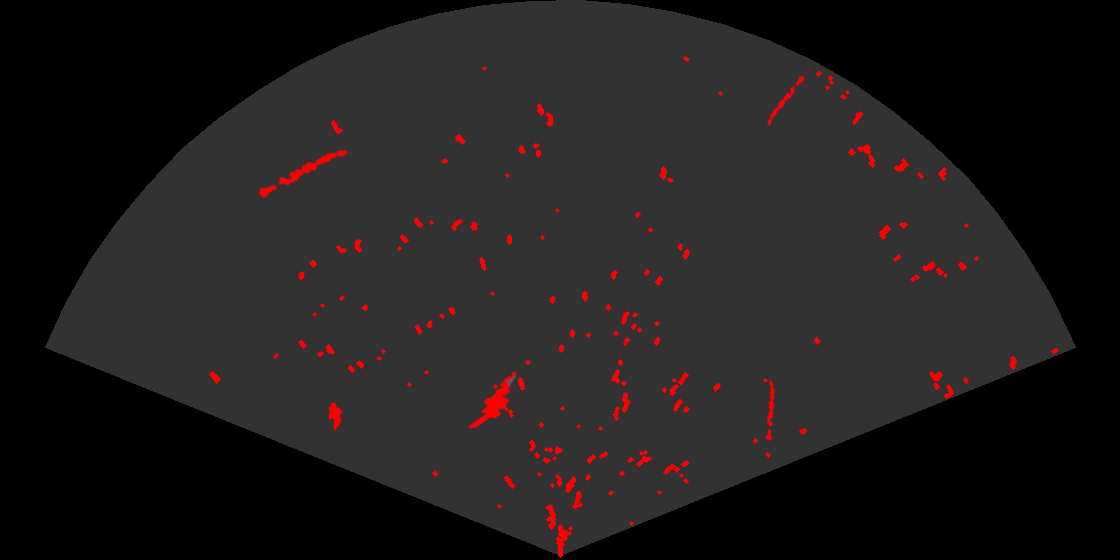AUV: (327, 400, 343, 433)
chain: (248, 148, 350, 203), (765, 67, 810, 127), (764, 379, 777, 442)
frogman: (469, 370, 518, 428)
